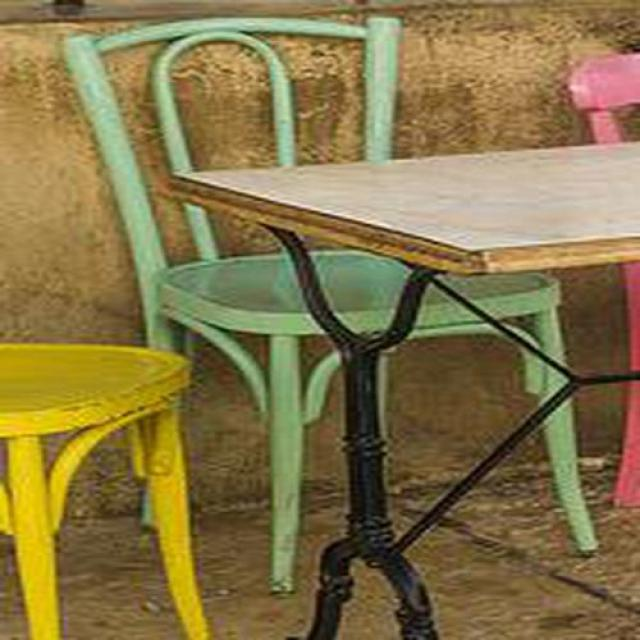chair: (64, 17, 406, 596), (408, 273, 575, 406), (311, 250, 416, 338), (544, 401, 599, 556)
